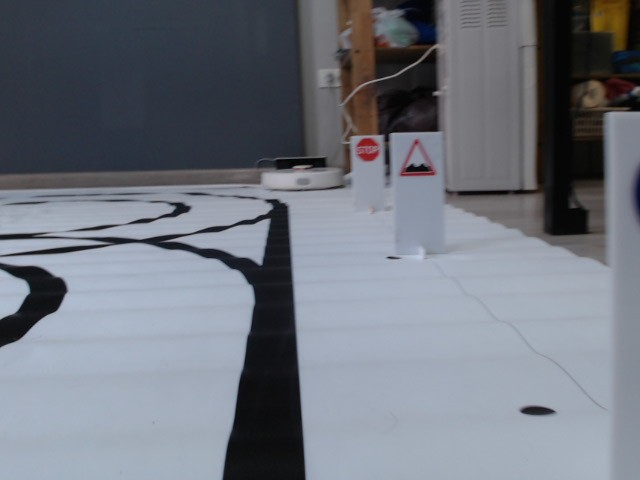Nerov: (398, 137, 435, 177)
Stop: (354, 139, 380, 161)
